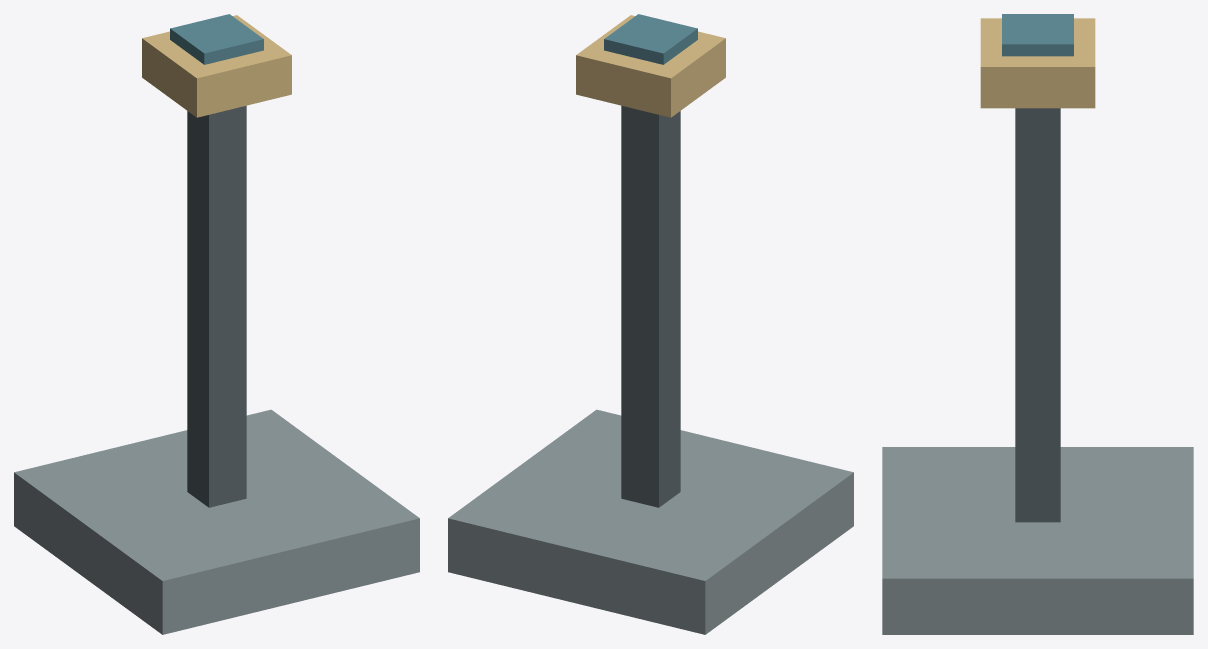
Rendered from DF_MOD_ExtractionBeacon.glb.
3 views of the same model, side by side, from view 1: azimuth 30°, elevation 25°; view 2: azimuth 150°, elevation 25°; view 3: azimuth 270°, elevation 25° (orthographic). The views are drawn at different scales.
Parts seen in each view (by area): view 1: Base, Shaft, Emitter, Indicator; view 2: Base, Shaft, Emitter, Indicator; view 3: Base, Shaft, Emitter, Indicator.
Boxes of the visible parts, bbox=[...] form: Base: bbox=[14, 409, 419, 634]; Shaft: bbox=[187, 105, 246, 507]; Emitter: bbox=[142, 15, 291, 117]; Indicator: bbox=[170, 14, 263, 64]; Base: bbox=[448, 409, 853, 634]; Shaft: bbox=[621, 105, 680, 507]; Emitter: bbox=[576, 15, 725, 117]; Indicator: bbox=[604, 14, 697, 64]; Base: bbox=[882, 447, 1193, 634]; Shaft: bbox=[1015, 108, 1060, 522]; Emitter: bbox=[980, 18, 1095, 108]; Indicator: bbox=[1002, 14, 1073, 56].
Size of the model in its own units: 1.3 by 2.49 by 1.3.
